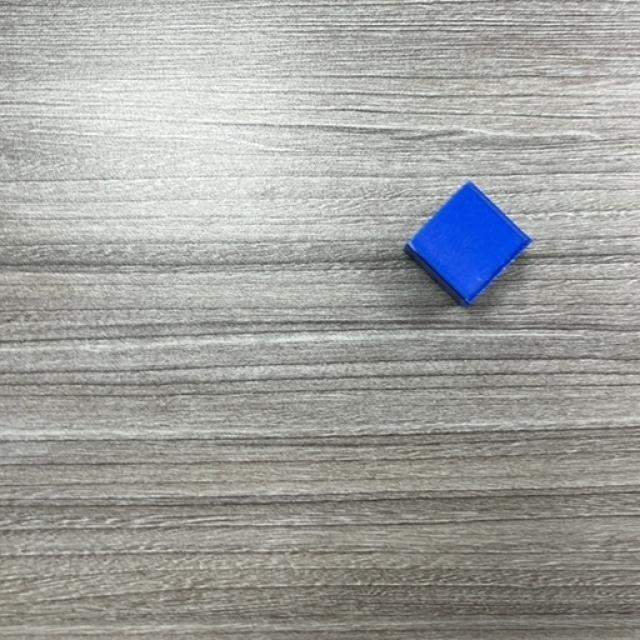Azul: (402, 181, 534, 308)
